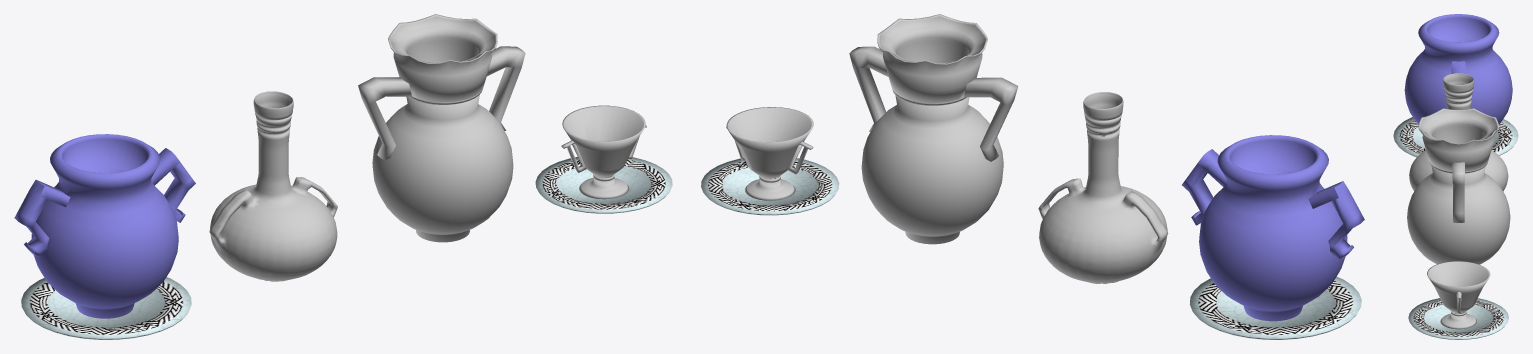
File: vajilla_texturized.fbx
3 renders of one model, left to right at view 1: azimuth 30°, elevation 25°; view 2: azimuth 150°, elevation 25°; view 3: azimuth 270°, elevation 25°, orthographic. The views are drawn at different scales.
Parts seen in each view (by area): view 1: Jarron asas, Jarron grande, jarron largo_repaired, plato, taza, plato 2; view 2: Jarron asas, Jarron grande, jarron largo_repaired, taza, plato, plato 2; view 3: Jarron asas, Jarron grande, taza, plato 2, jarron largo_repaired, plato.
Boxes of the visible parts, x1=… form: Jarron asas: x1=358, y1=14, x2=525, y2=242; Jarron grande: x1=14, y1=134, x2=195, y2=318; jarron largo_repaired: x1=209, y1=91, x2=337, y2=281; plato: x1=21, y1=277, x2=191, y2=339; taza: x1=561, y1=105, x2=646, y2=199; plato 2: x1=535, y1=157, x2=672, y2=213; Jarron asas: x1=849, y1=14, x2=1018, y2=244; Jarron grande: x1=1182, y1=135, x2=1364, y2=321; jarron largo_repaired: x1=1038, y1=92, x2=1168, y2=283; taza: x1=726, y1=107, x2=813, y2=200; plato: x1=1190, y1=277, x2=1361, y2=339; plato 2: x1=701, y1=158, x2=839, y2=215; Jarron asas: x1=1407, y1=108, x2=1510, y2=264; Jarron grande: x1=1404, y1=14, x2=1512, y2=124; taza: x1=1427, y1=261, x2=1490, y2=329; plato 2: x1=1408, y1=298, x2=1508, y2=339; jarron largo_repaired: x1=1409, y1=73, x2=1508, y2=191; plato: x1=1393, y1=117, x2=1518, y2=157.
Size of the model in its own units: 1054 by 303 by 242.
